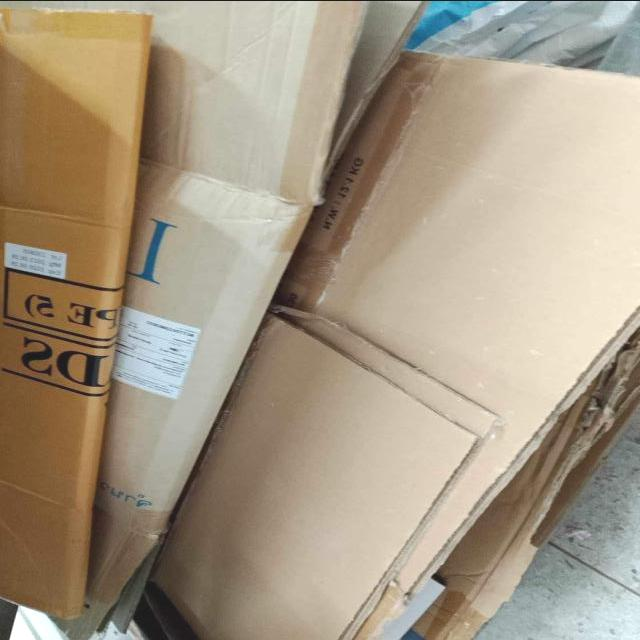General: (1, 2, 638, 637), (403, 0, 638, 72)
Infectious: (0, 5, 154, 620)
